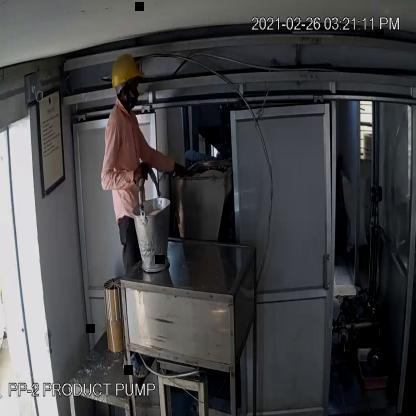helmet: (107, 47, 148, 99)
